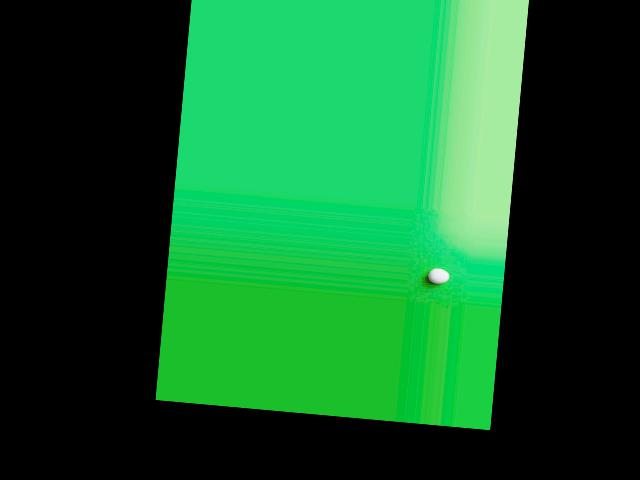egg: (427, 267, 449, 284)
